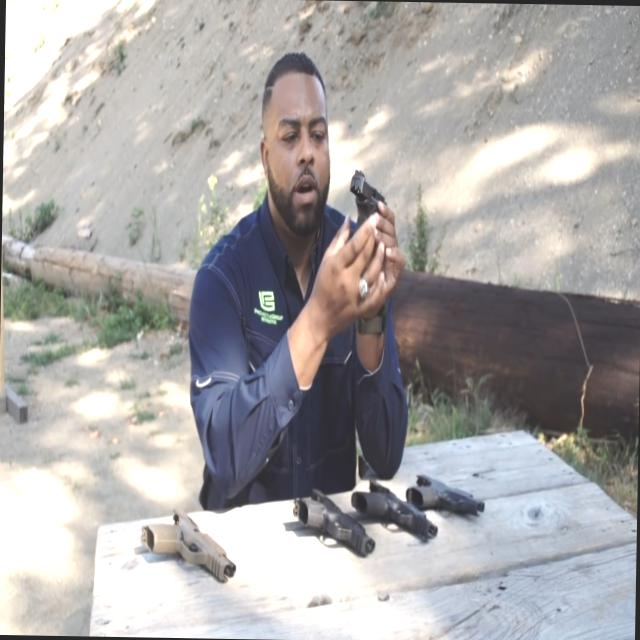handgun: (137, 486, 243, 618), (284, 481, 394, 574), (340, 158, 400, 308), (342, 474, 440, 550), (398, 456, 481, 527)
